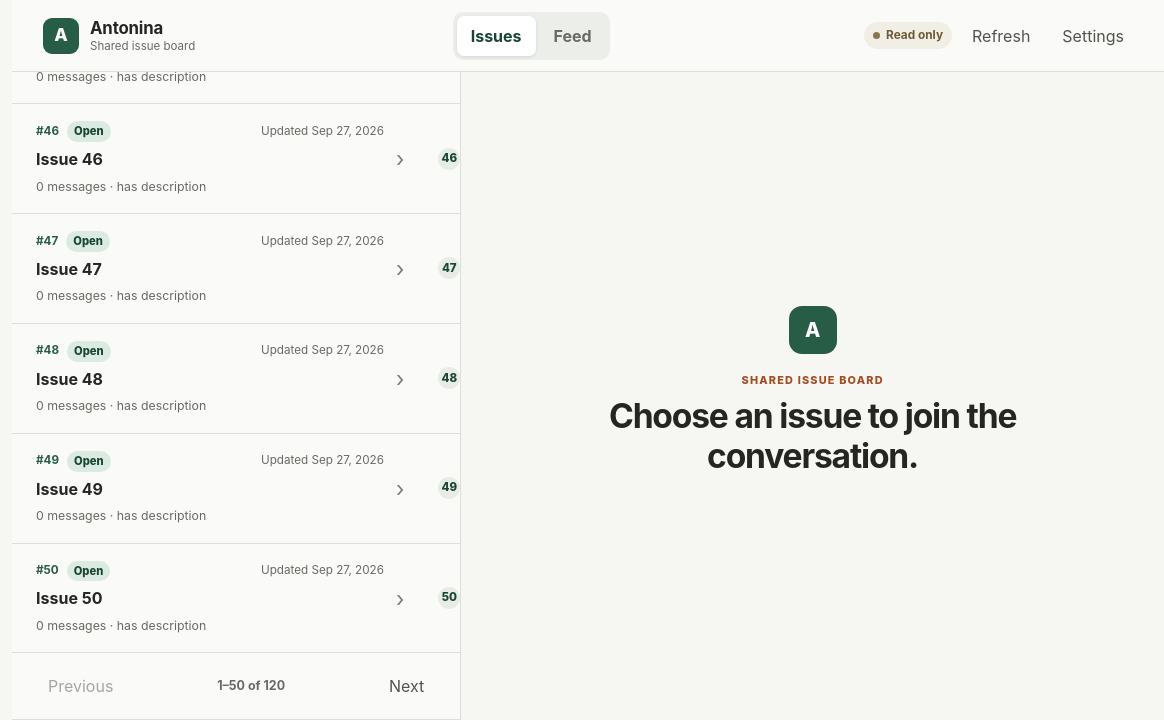
Test case: the board addressed by URL, mounted › puts a page the reader reached with Next into the URL
This screenshot has width=1164, height=720.
(page scrolled)
Click the button with aria-label "Next page".
click(407, 686)  # box [377, 665, 436, 707]
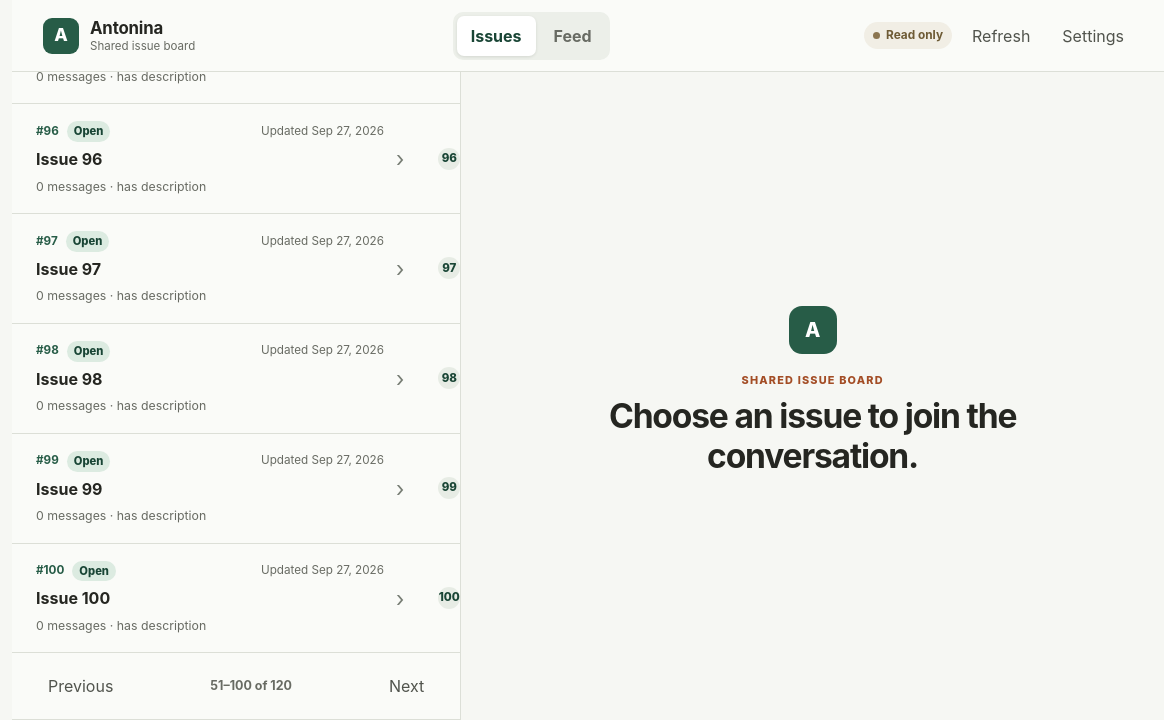
Result: the message with class "issue-page-range" reads "51–100 of 120" at [210, 678, 292, 693]
